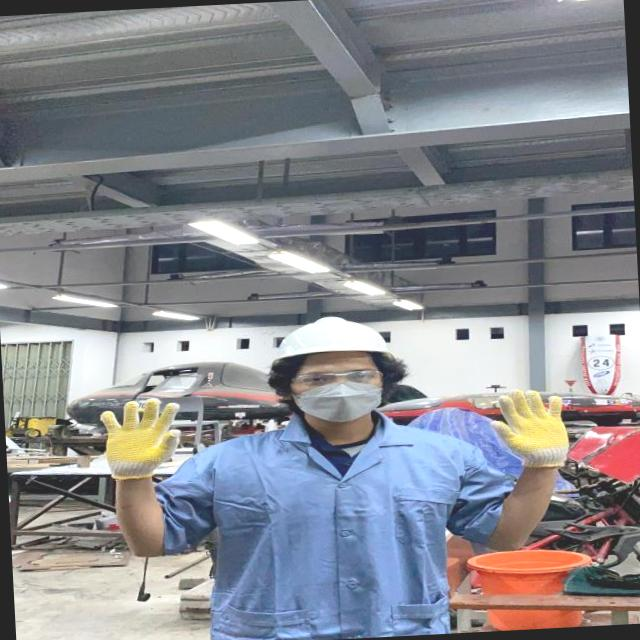gloves: (210, 413, 456, 640), (488, 384, 580, 478), (96, 393, 187, 486)
helmet: (260, 306, 400, 369)
